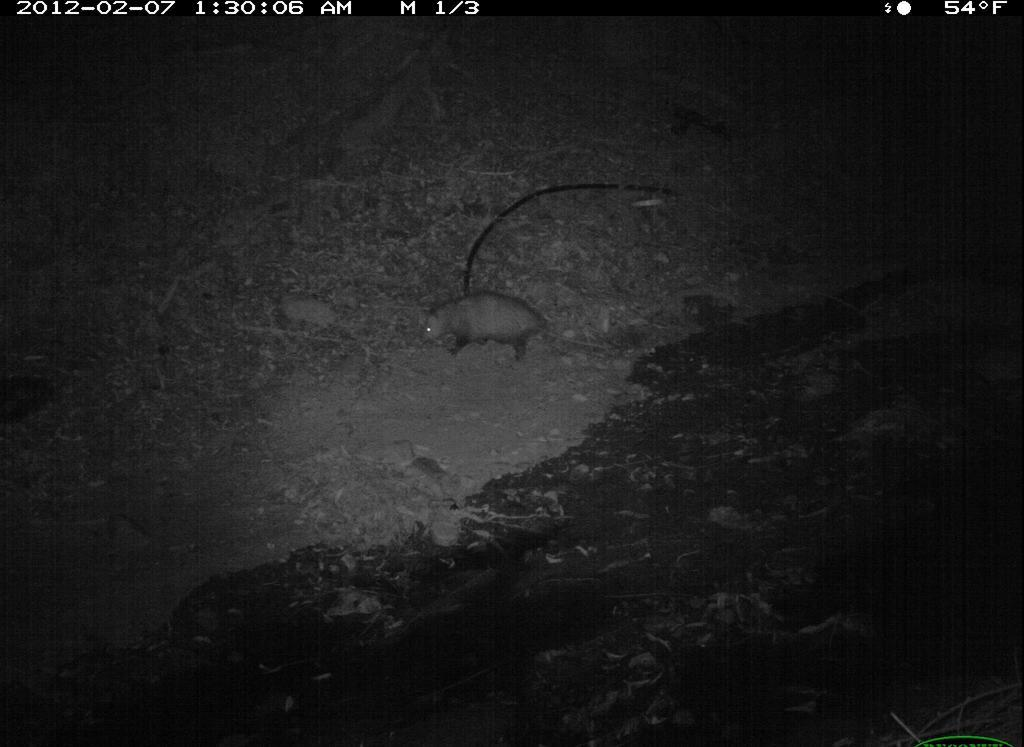opossum: (419, 286, 629, 363)
